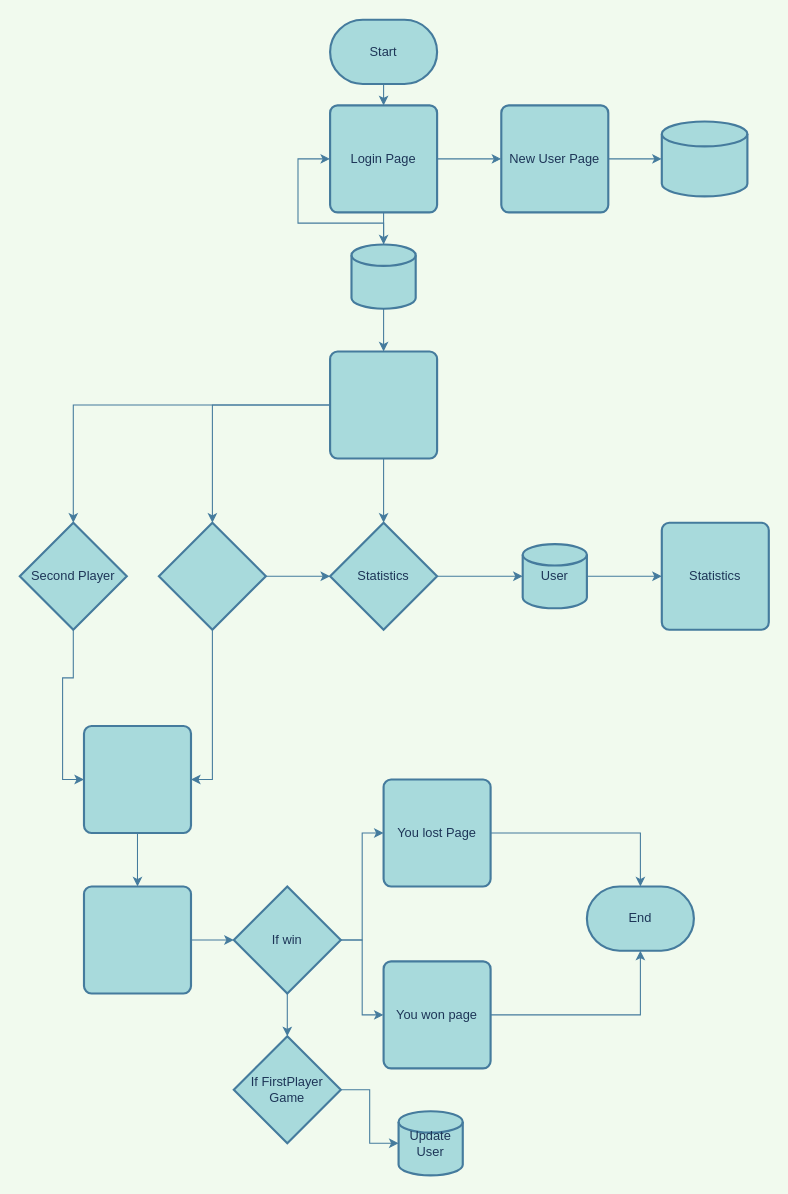
Image size: 788x1194. Some labels were removed from this diagram. Here are the shapes that lost their labels. From the top down, the centre of each, then its label:
At point 704,158: "Create User Database".
At point 383,276: "User Database".
At point 383,404: "Menu".
At point 211,575: "First Player".
At point 137,779: "What color Page?".
At point 137,939: "Display Board".
